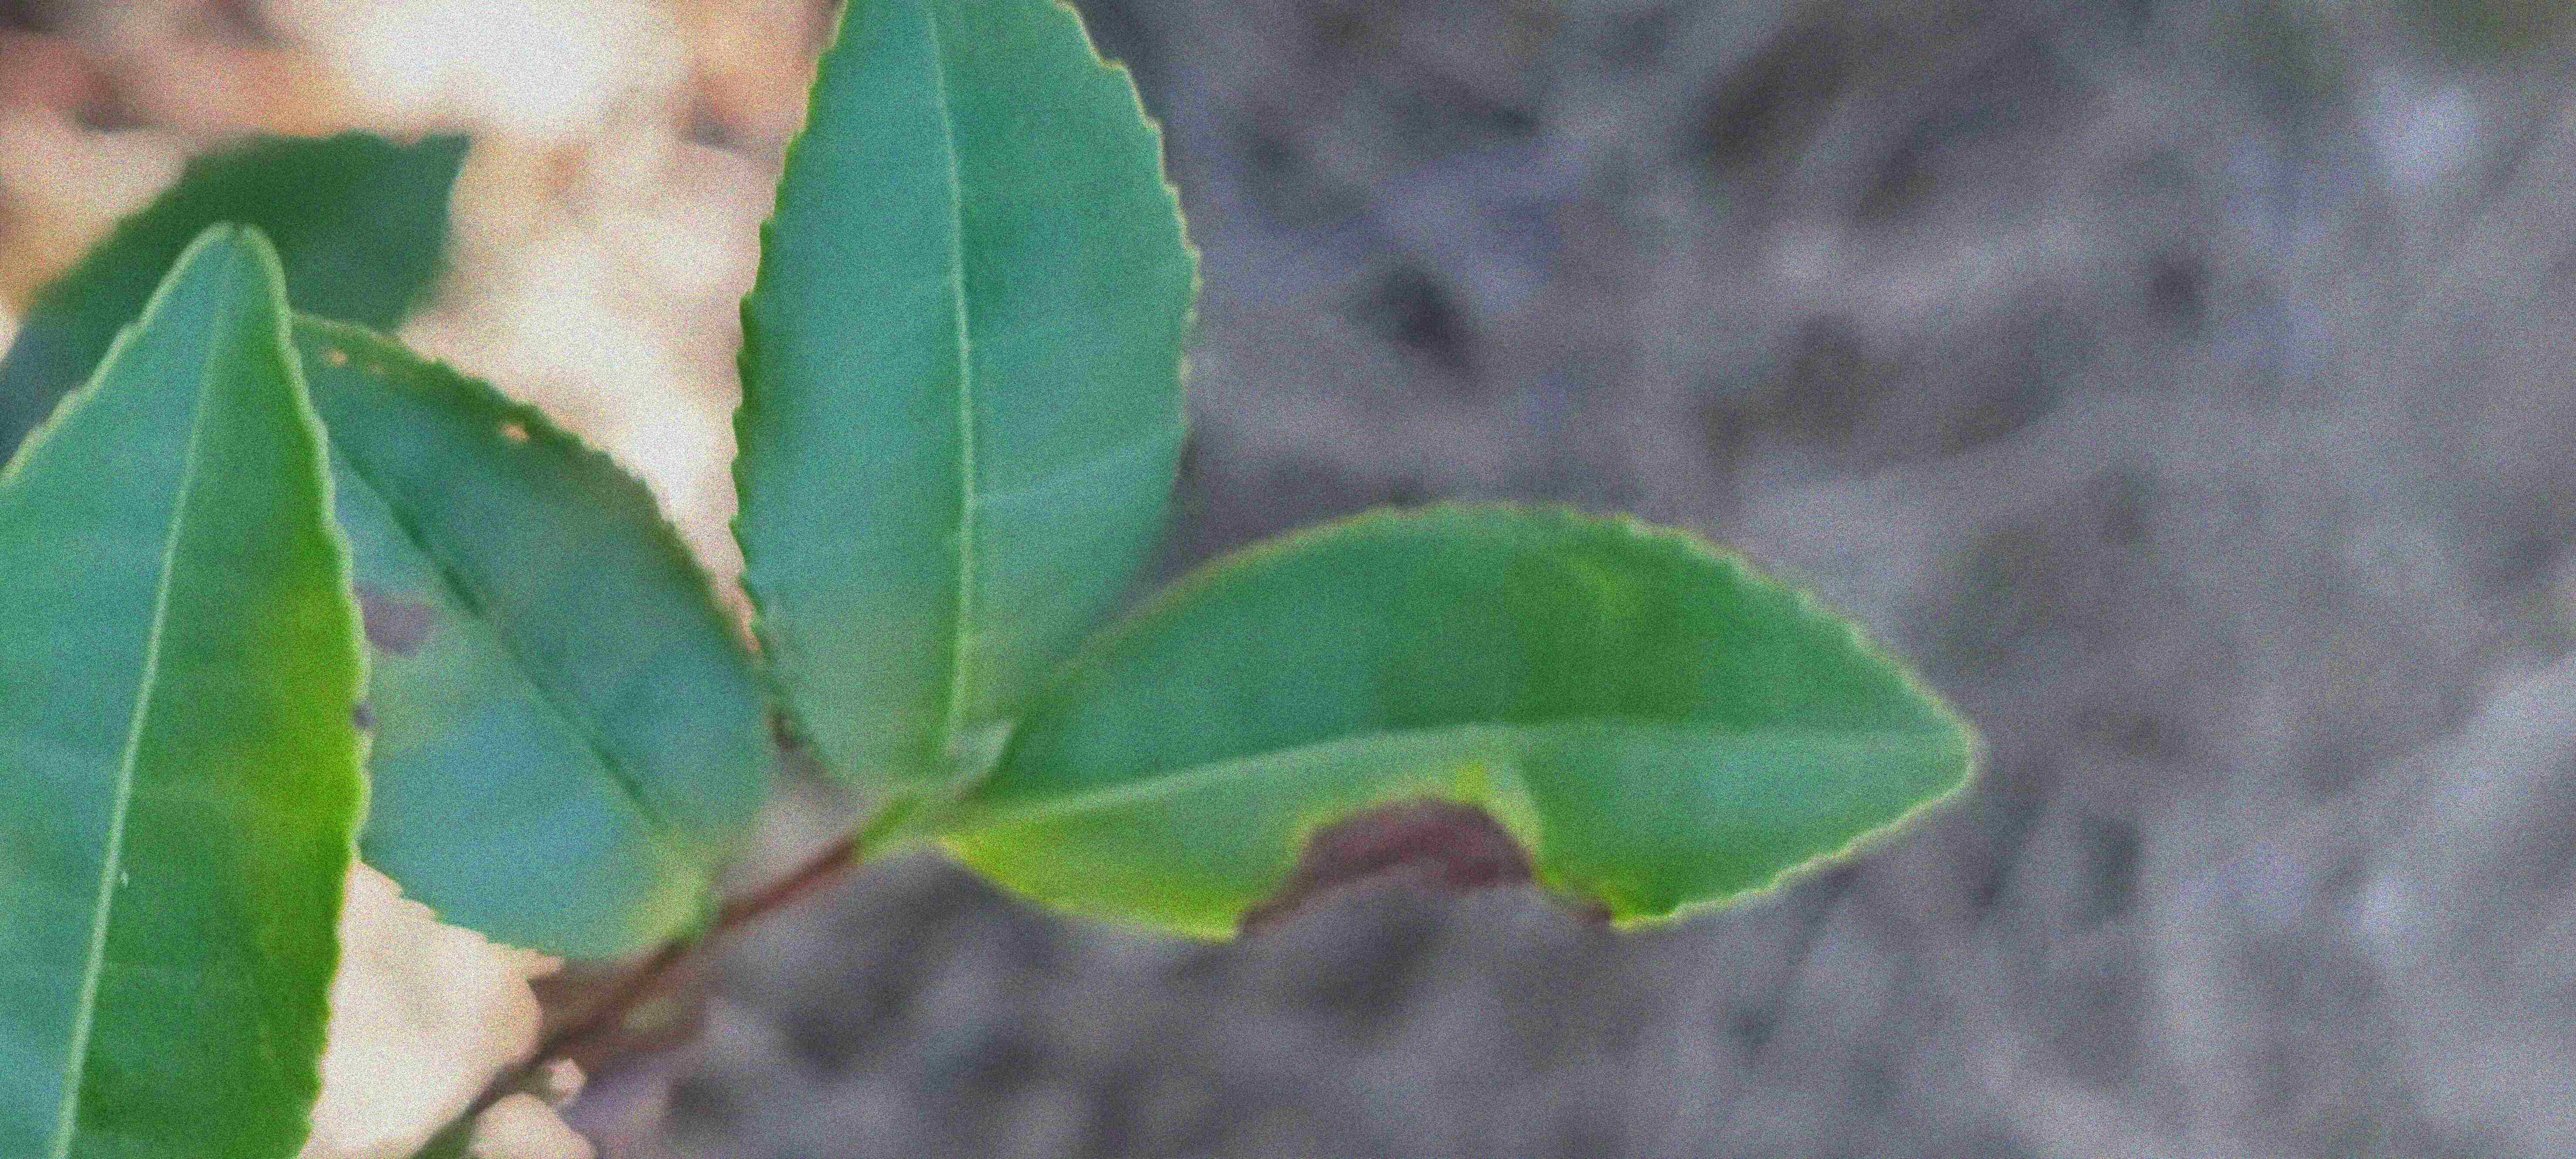healthy: (723, 5, 1207, 811), (8, 215, 370, 1154)
tanju_high: (959, 489, 1980, 946), (291, 314, 775, 964)
